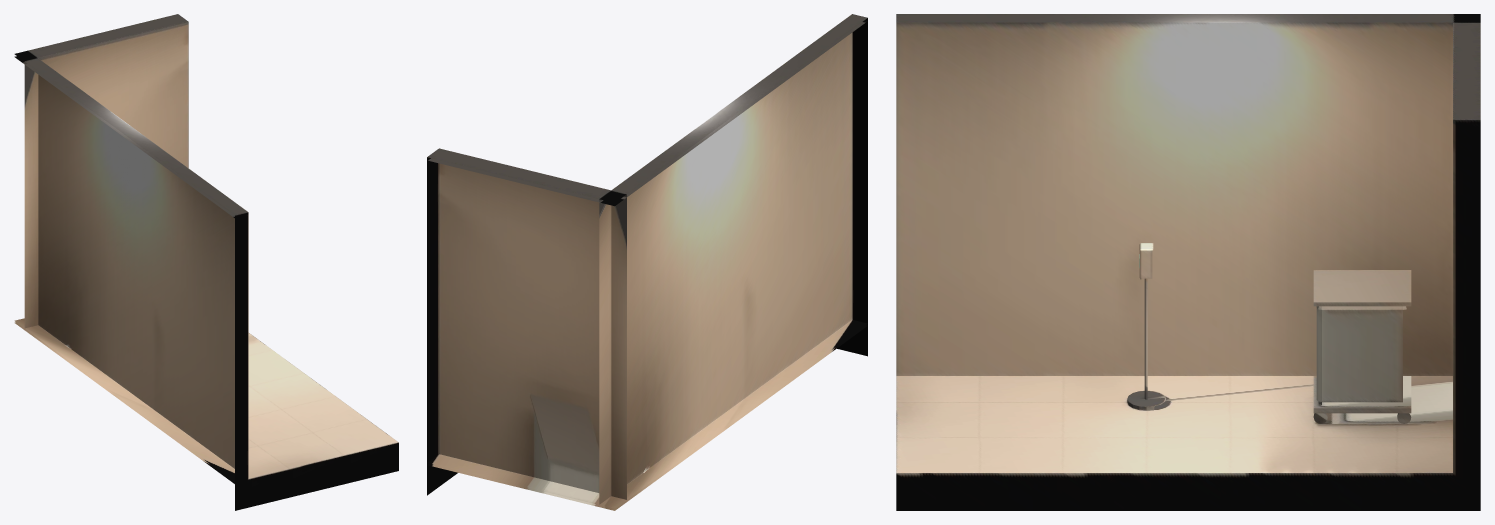
The model's file is side-back-left.glb.
3 renders of one model, left to right at view 1: azimuth 30°, elevation 25°; view 2: azimuth 150°, elevation 25°; view 3: azimuth 270°, elevation 25°, orthographic. The views are drawn at different scales.
Parts seen in each view (by area): view 1: sideBackLeft; view 2: sideBackLeft; view 3: sideBackLeft.
Part boxes in pixels (x1,y1,x2,y2): sideBackLeft: (14, 14, 398, 510); sideBackLeft: (427, 14, 867, 510); sideBackLeft: (896, 14, 1480, 510).
Size of the model in its own units: 1.8 by 3.1 by 4.2.
Materials: 1 (1 with a texture image).
